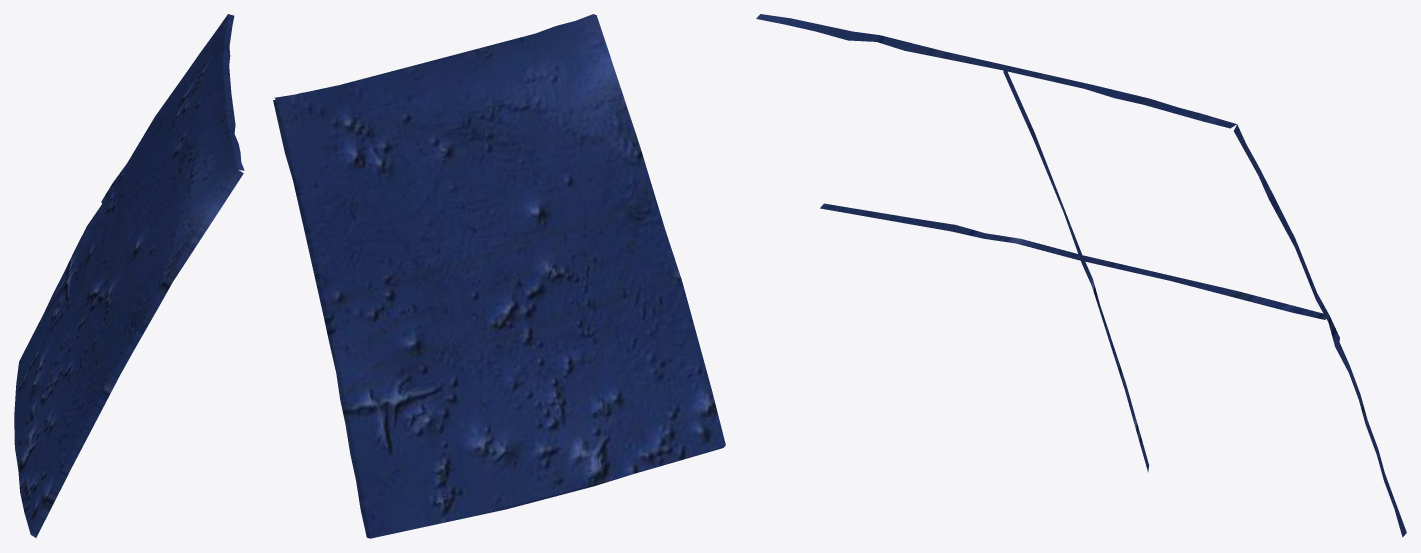
3 views of the same model, side by side, from view 1: azimuth 30°, elevation 25°; view 2: azimuth 150°, elevation 25°; view 3: azimuth 270°, elevation 25° (orthographic). The views are drawn at different scales.
Size of the model in its own units: 1057437 by 1118672 by 1261468.
Materials: 1 (1 with a texture image).
